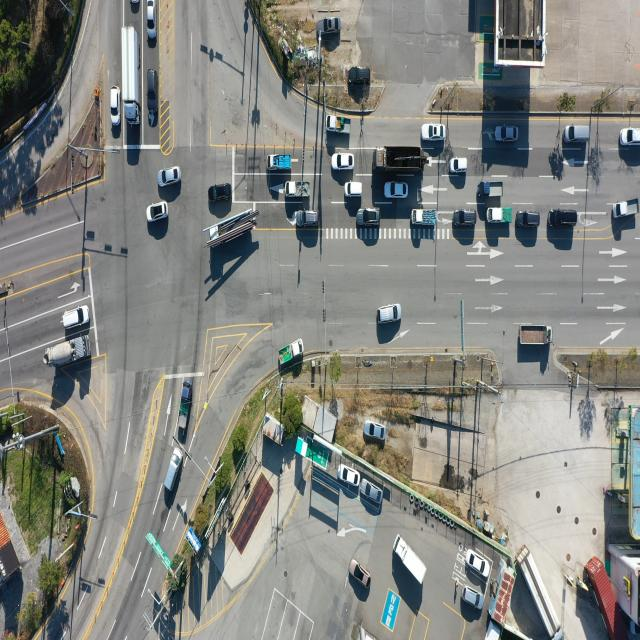car: (347, 558, 373, 592), (164, 446, 183, 492), (62, 306, 90, 331), (469, 550, 492, 579), (147, 66, 159, 120), (361, 480, 384, 505), (464, 583, 486, 609), (549, 209, 577, 227), (564, 125, 590, 144), (339, 463, 361, 485), (208, 182, 232, 202), (378, 305, 401, 325), (160, 167, 182, 187), (146, 203, 168, 223), (363, 420, 385, 440), (422, 124, 446, 142), (356, 208, 380, 226), (384, 181, 407, 199), (495, 126, 518, 144), (456, 210, 479, 228), (296, 210, 319, 228), (146, 0, 156, 40), (518, 210, 540, 228), (332, 153, 355, 170), (110, 86, 120, 125), (620, 129, 640, 147), (350, 67, 371, 84), (126, 104, 140, 127), (322, 18, 340, 35), (345, 181, 364, 197), (450, 158, 468, 174)
medium_truck: (519, 544, 564, 637), (206, 210, 256, 248), (395, 536, 429, 588), (124, 25, 140, 125), (46, 334, 90, 369), (518, 328, 551, 348)
small_truck: (277, 339, 303, 368), (180, 379, 193, 432), (612, 200, 640, 221), (326, 115, 353, 135), (412, 209, 437, 228), (486, 207, 512, 225), (268, 155, 293, 173), (285, 183, 309, 201), (481, 180, 504, 198)
